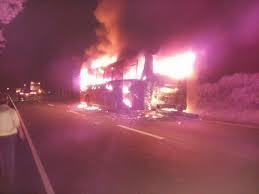fire: (59, 37, 210, 118)
